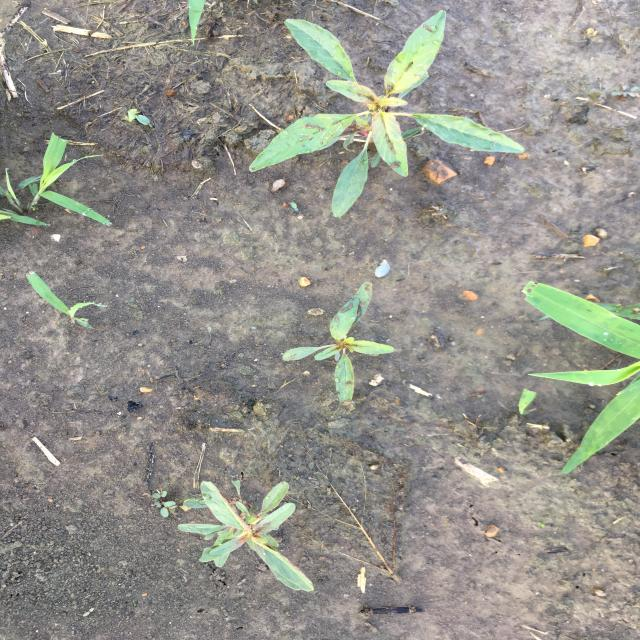Waterhemp: (246, 8, 528, 220), (175, 478, 317, 594), (280, 280, 398, 406)
